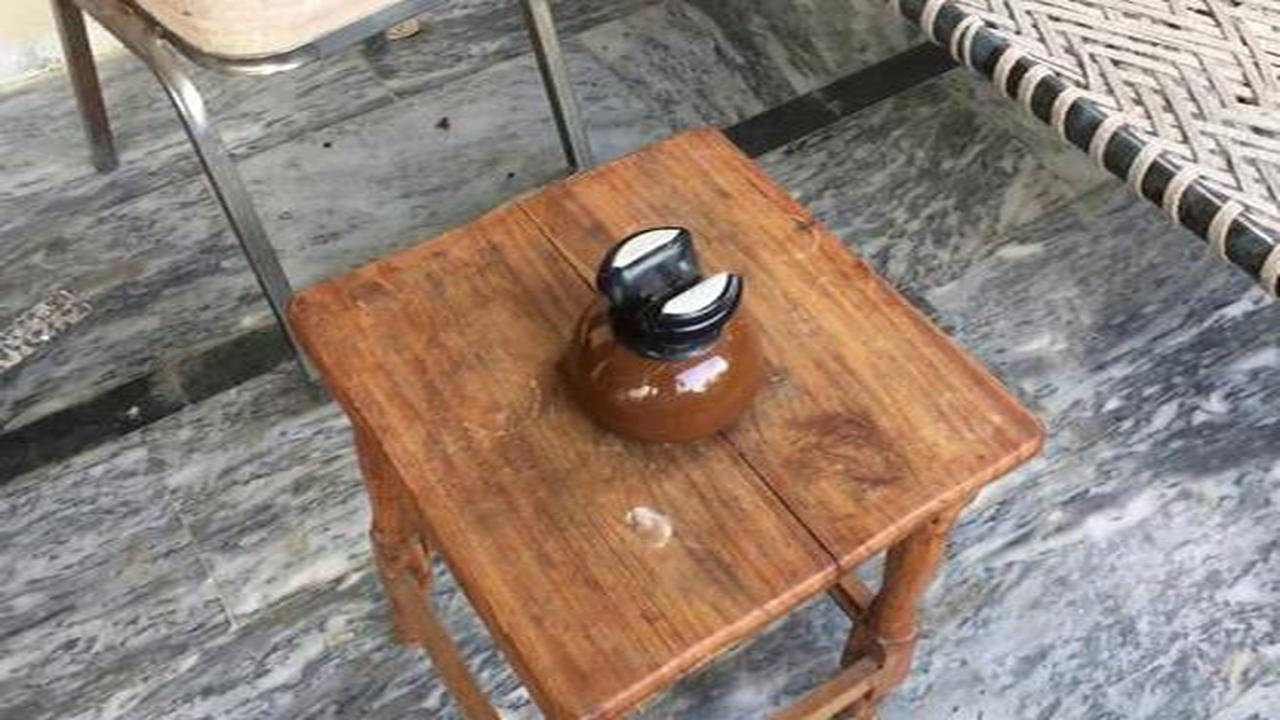insulator_pin: (527, 212, 797, 461)
